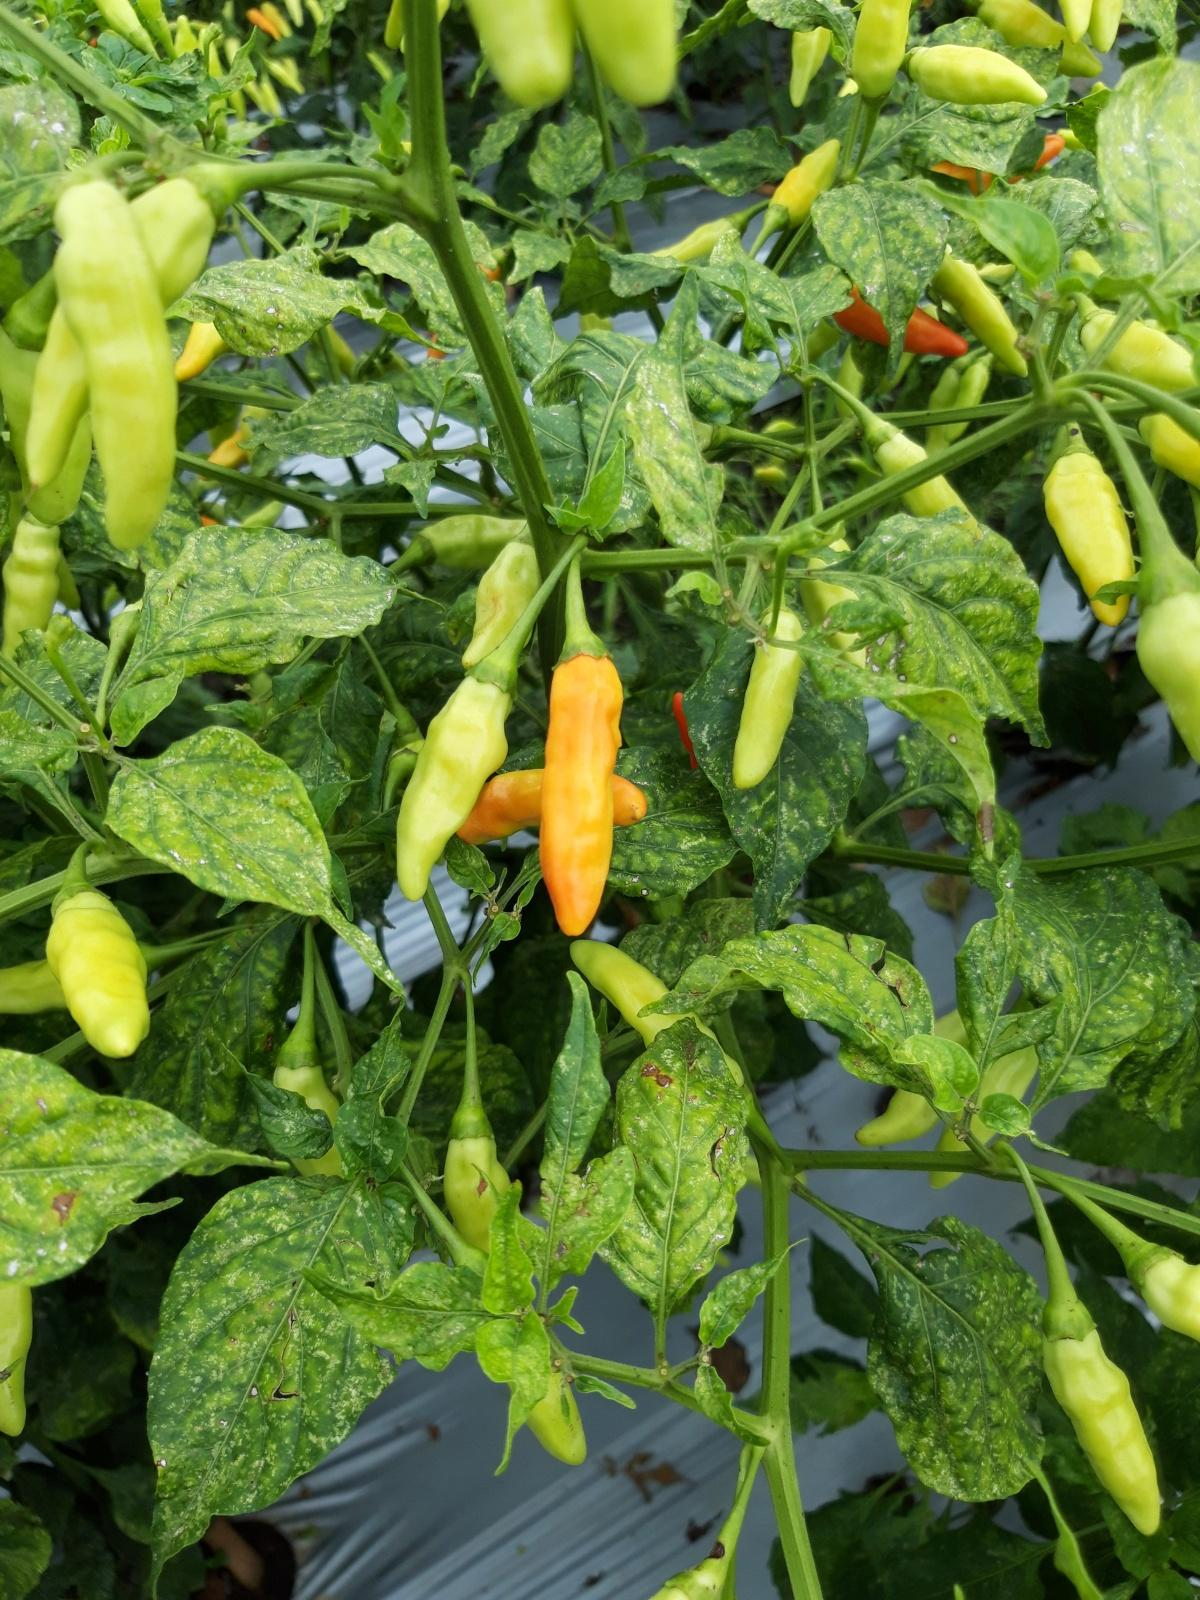cabai_normal: (24, 193, 213, 491), (446, 1138, 589, 1464), (58, 186, 183, 551), (397, 671, 516, 902), (1042, 1329, 1161, 1536), (538, 655, 621, 937), (44, 892, 155, 1057), (1045, 449, 1138, 624), (456, 771, 648, 844), (729, 612, 803, 790), (935, 241, 1026, 373), (576, 0, 683, 108), (469, 0, 571, 103), (880, 432, 982, 534), (979, 0, 1103, 78), (1080, 306, 1200, 383), (0, 523, 67, 659), (913, 47, 1049, 107), (766, 140, 841, 222), (0, 1271, 37, 1437), (853, 0, 914, 96), (1139, 1246, 1200, 1340), (647, 215, 741, 267), (787, 15, 833, 107), (1090, 0, 1124, 52), (1058, 0, 1094, 44)
